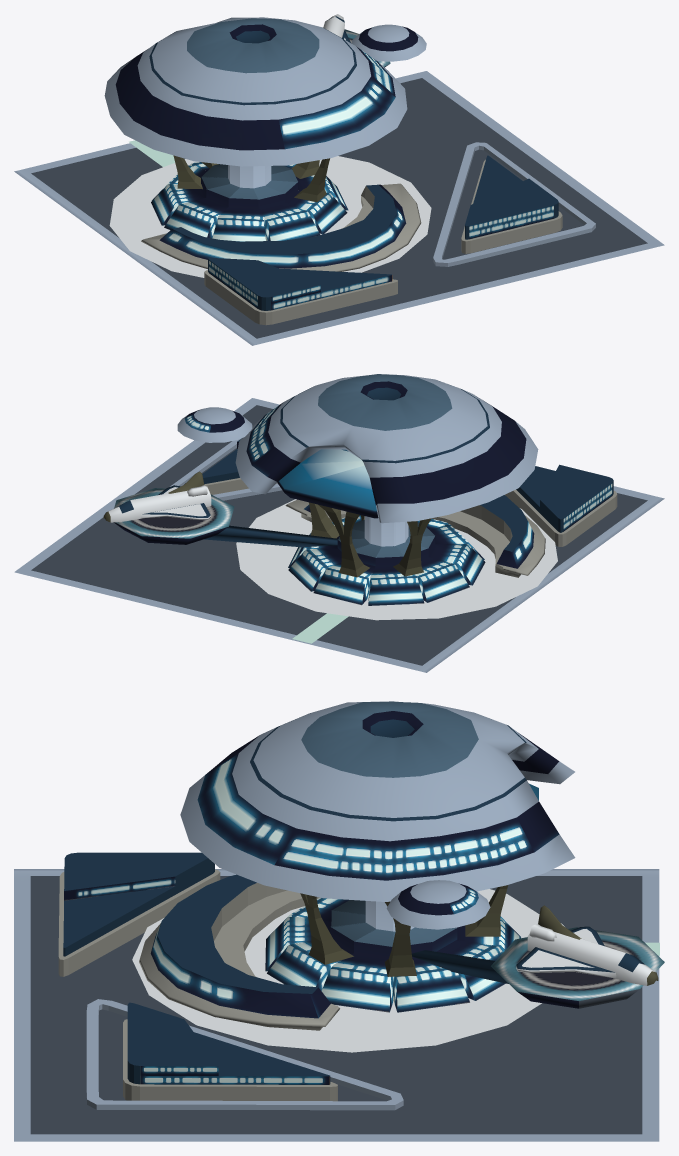
File: spacestation_LV1.fbx
3 views of the same model, one above another, from view 1: azimuth 30°, elevation 25°; view 2: azimuth 150°, elevation 25°; view 3: azimuth 270°, elevation 25° (orthographic). The views are drawn at different scales.
Parts seen in each view (by area): view 1: space 1; view 2: space 1; view 3: space 1.
Part boxes in pixels (x1,y1,x2,y2): space 1: [14, 14, 664, 345]; space 1: [14, 374, 664, 672]; space 1: [14, 701, 664, 1141].
Bounding box in the file's own units: 240 × 97.48 × 242.
